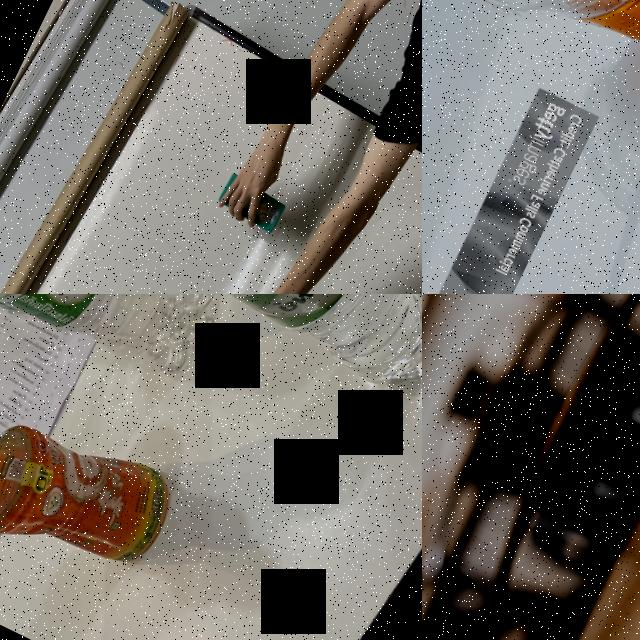bottle: (0, 361, 188, 604), (122, 294, 422, 407), (0, 294, 239, 398)
cup: (422, 0, 640, 116)
